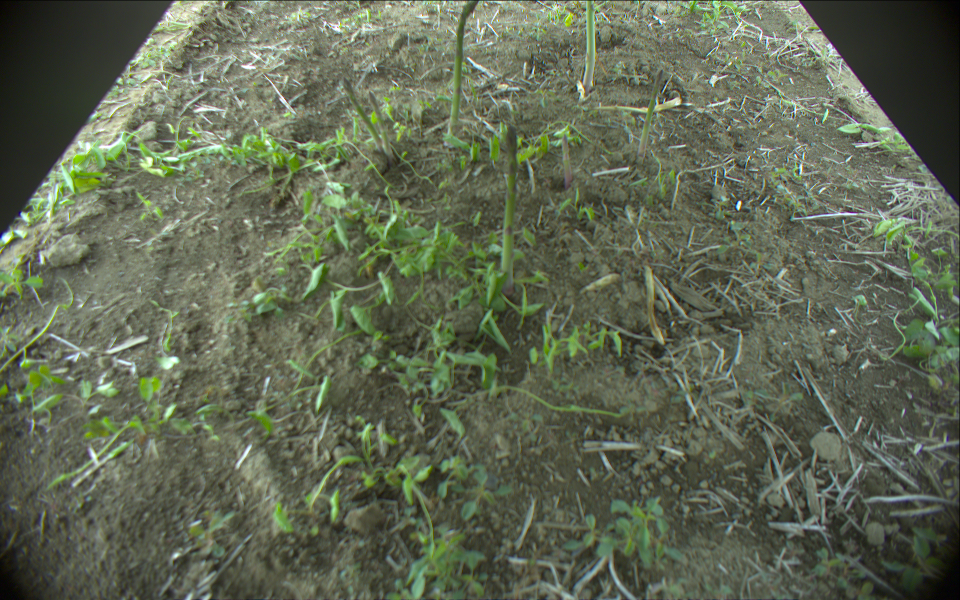aspa: (447, 1, 480, 142), (500, 126, 518, 293), (342, 78, 380, 148), (638, 69, 663, 159), (369, 90, 391, 162), (583, 1, 598, 87), (562, 133, 570, 187)
